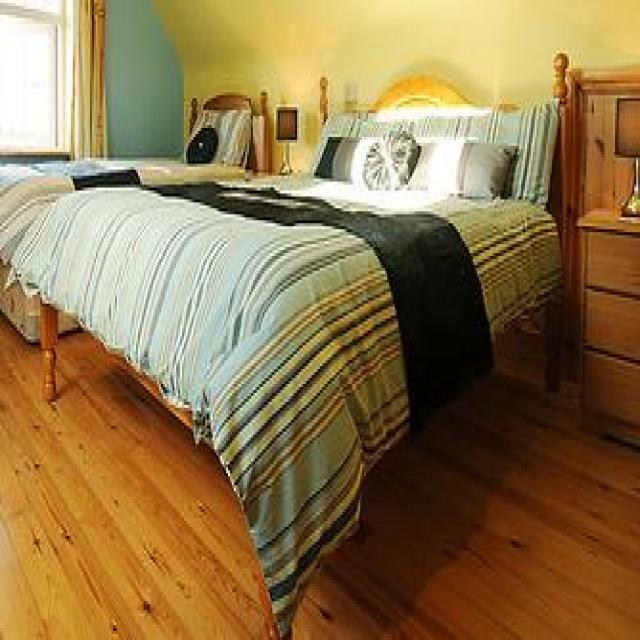bed: (36, 53, 567, 640)
